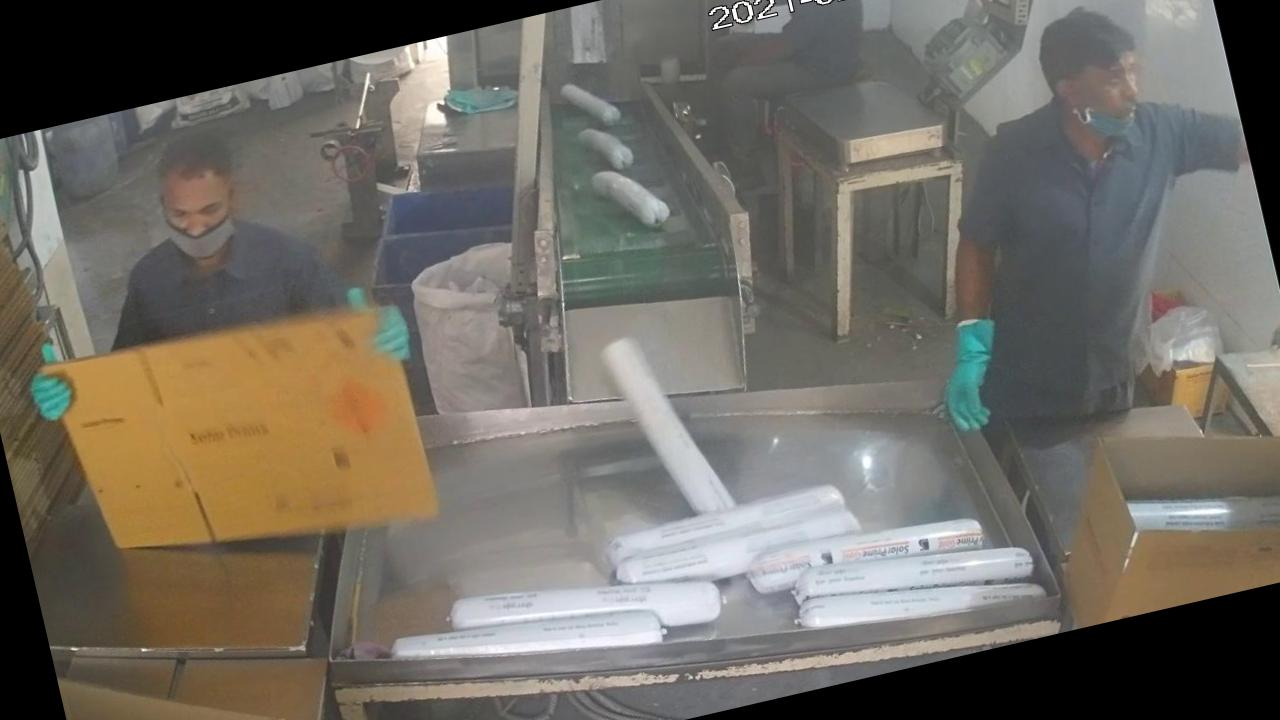Gloves: (899, 290, 1032, 466)
